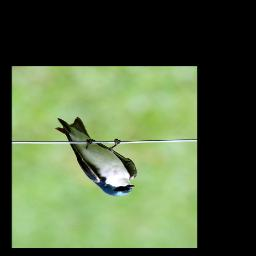Swallow: (54, 117, 137, 197)
